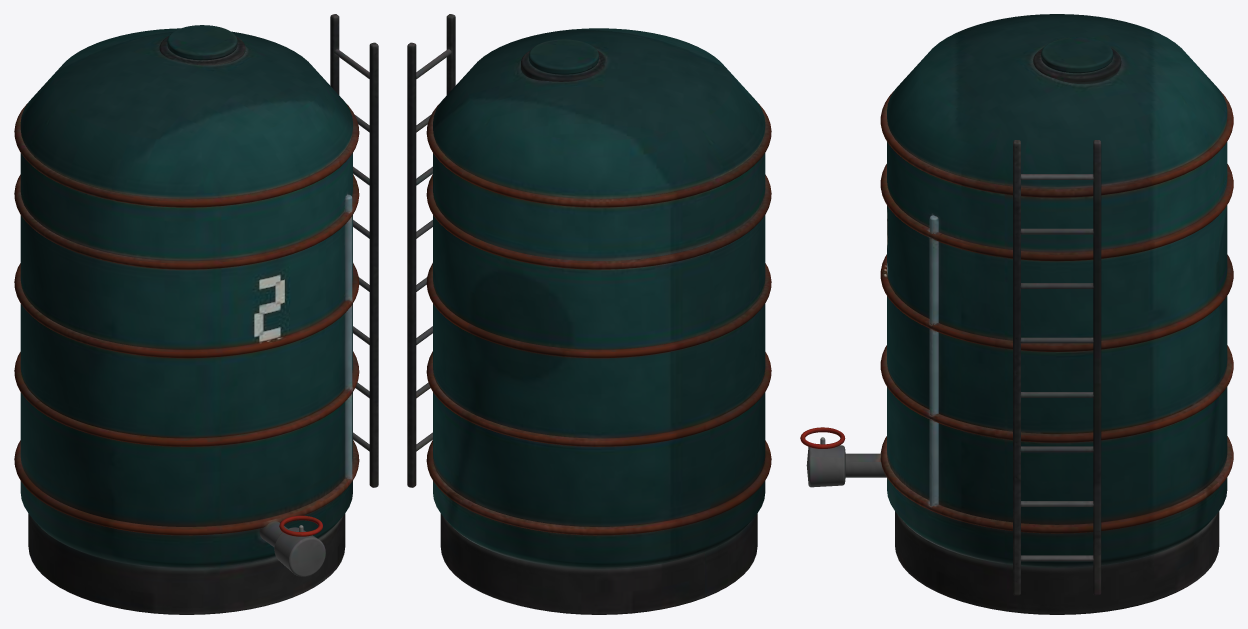
File: water_tank.glb
3 renders of one model, left to right at view 1: azimuth 30°, elevation 25°; view 2: azimuth 150°, elevation 25°; view 3: azimuth 270°, elevation 25°, orthographic. The views are drawn at different scales.
Parts seen in each view (by area): view 1: water_tank; view 2: water_tank; view 3: water_tank.
Boxes of the visible parts, x1,y1,x2,y2 form: water_tank: (14, 14, 378, 614); water_tank: (407, 14, 771, 614); water_tank: (800, 14, 1233, 614).
Size of the model in its own units: 1.89 by 2.8 by 2.16.
Materials: 1 (1 with a texture image).
